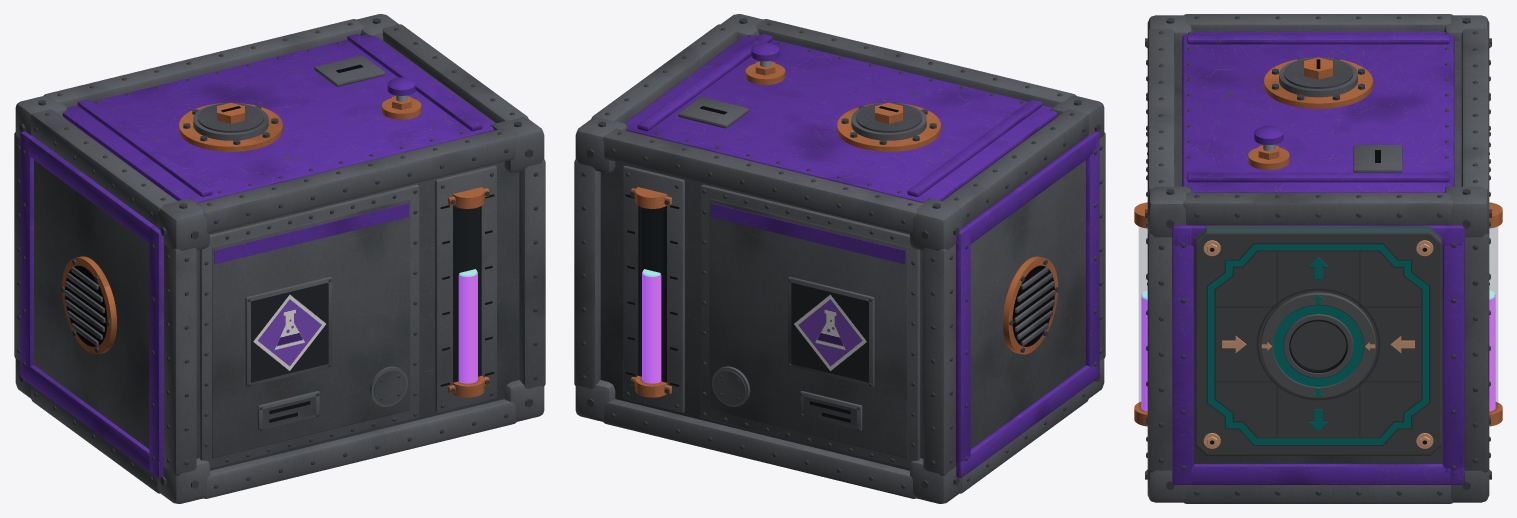
Rendered from chemical_container.glb.
The picture shows the model from 3 angles, left to right: view 1: azimuth 30°, elevation 25°; view 2: azimuth 150°, elevation 25°; view 3: azimuth 270°, elevation 25°; orthographic projection. The views are drawn at different scales.
Visible parts, largest first — view 1: Housing, Glass, Liquid; view 2: Housing, Glass, Liquid; view 3: Housing, IOPort, Glass, Liquid.
Boxes of the visible parts, box(x1,y1,x2,y2) form: Housing: box(14, 14, 545, 503); Glass: box(457, 207, 479, 384); Liquid: box(458, 269, 477, 383); Housing: box(574, 14, 1105, 503); Glass: box(640, 207, 662, 384); Liquid: box(642, 269, 661, 383); Housing: box(1134, 14, 1502, 503); IOPort: box(1194, 225, 1442, 455); Glass: box(1139, 227, 1497, 412); Liquid: box(1141, 290, 1495, 411).
Bounding box in the file's own units: 0.98 × 0.739 × 0.744.
20 materials, 8 textured.
